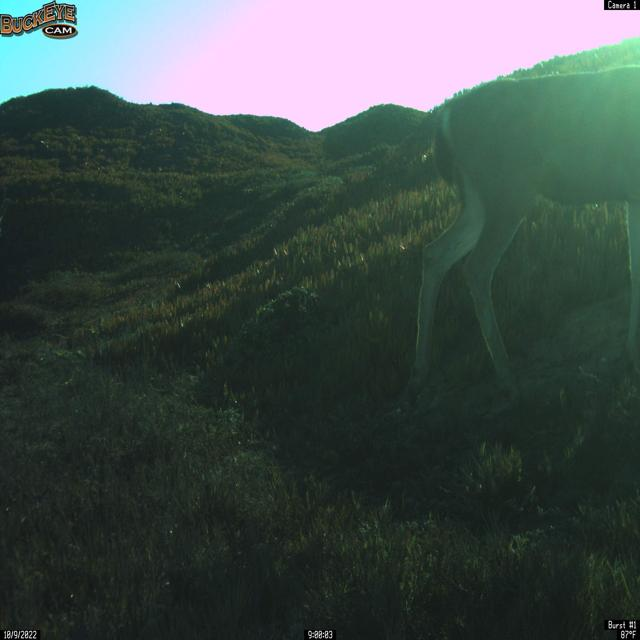deer: (401, 10, 640, 413)
